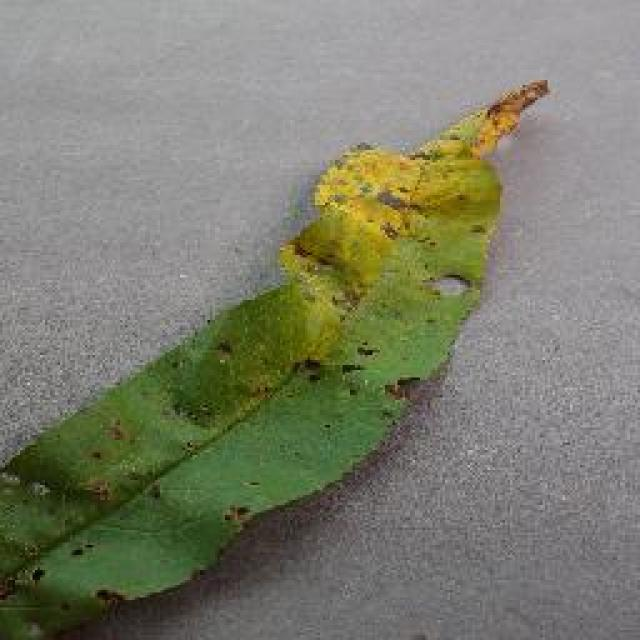Bacterial_spot: (0, 76, 571, 616)
